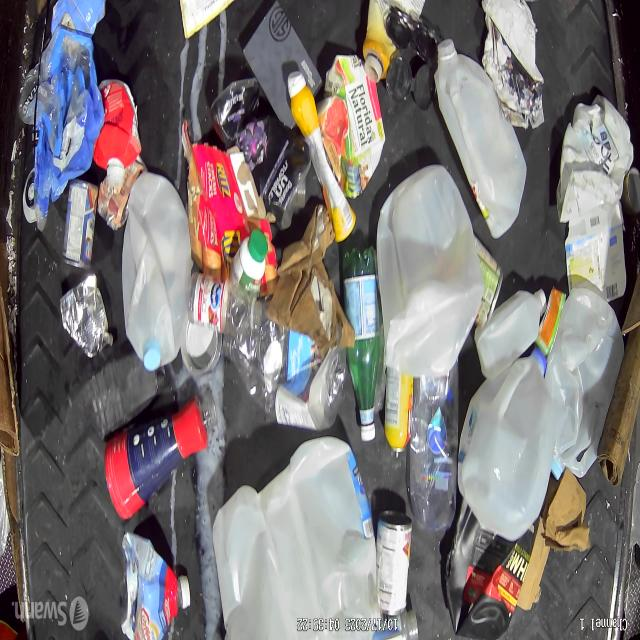can: (58, 272, 110, 362), (372, 508, 411, 622), (62, 179, 98, 271), (96, 162, 142, 232)
milk_jug: (210, 438, 380, 638), (375, 163, 480, 379), (455, 349, 557, 539), (434, 42, 528, 239), (547, 284, 623, 480), (122, 173, 189, 370)
non_white_jug: (443, 496, 540, 640)
